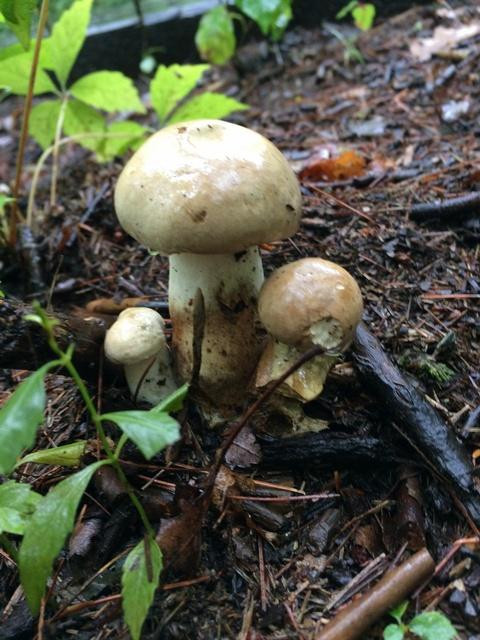edible_mushroom: (112, 117, 303, 424), (251, 255, 363, 404), (102, 305, 178, 408)
